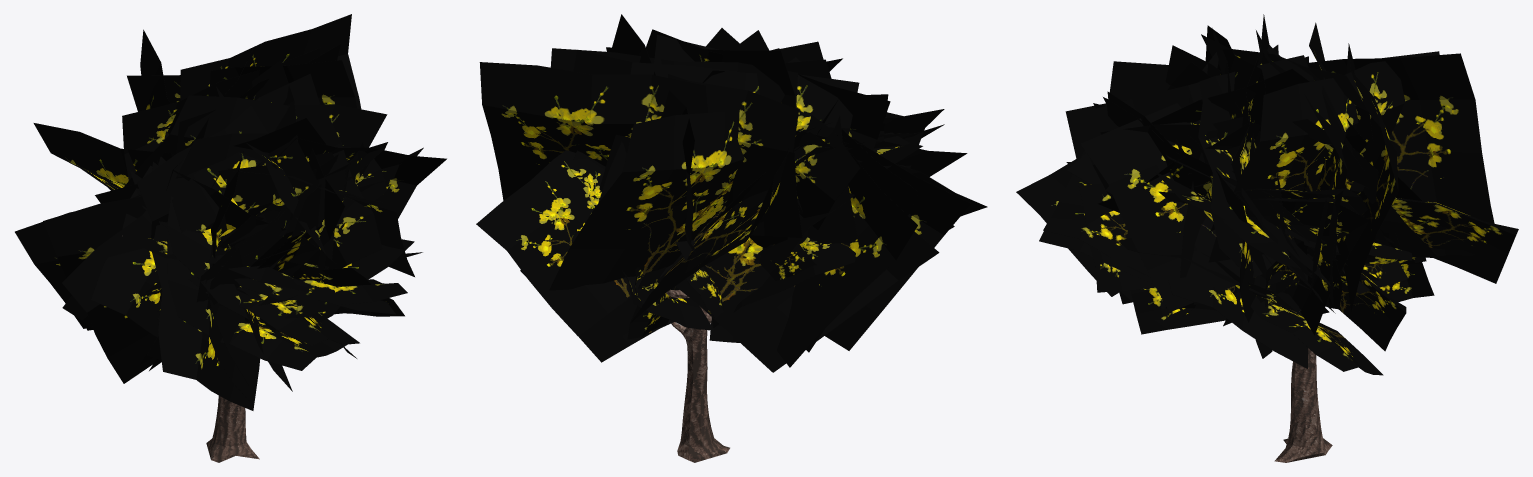
Rendered from arvore 7.fbx.
3 renders of one model, left to right at view 1: azimuth 30°, elevation 25°; view 2: azimuth 150°, elevation 25°; view 3: azimuth 270°, elevation 25°, orthographic. The views are drawn at different scales.
Visible parts, largest first — view 1: arvore 7; view 2: arvore 7; view 3: arvore 7.
Part boxes in pixels (bbox=[...]): arvore 7: bbox=[15, 14, 446, 462]; arvore 7: bbox=[476, 14, 987, 462]; arvore 7: bbox=[1016, 14, 1518, 462].
Size of the model in its own units: 1387 by 1288 by 1437.
1 material, 1 textured.
